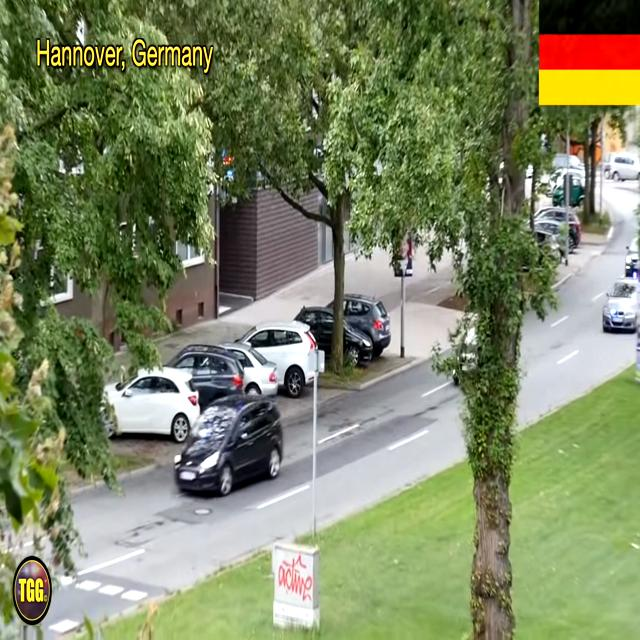emergency-vehicles: (580, 252, 640, 353)
